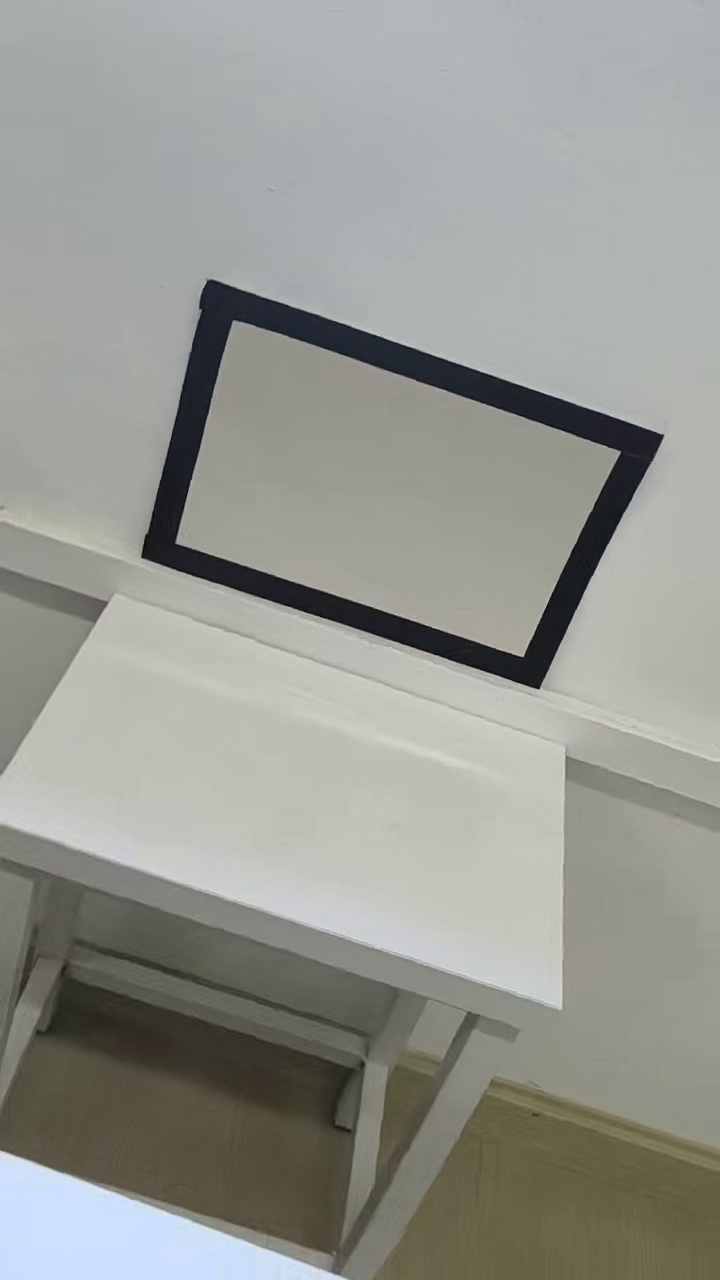board: (141, 274, 664, 693)
